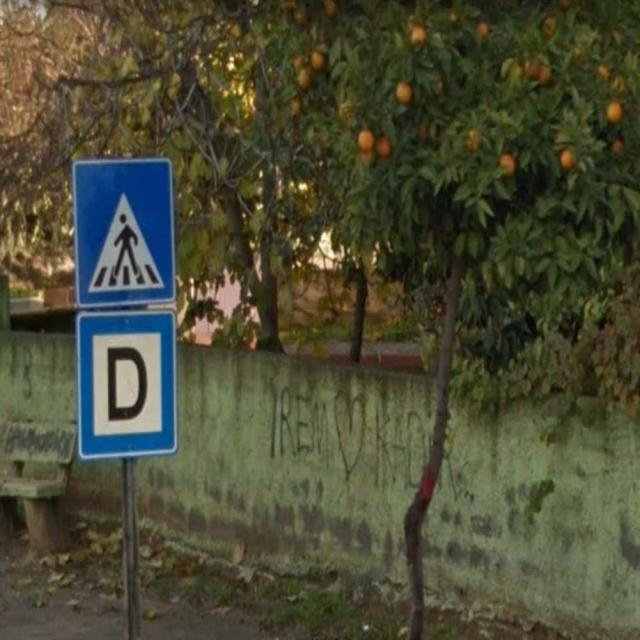durak: (77, 312, 177, 457)
